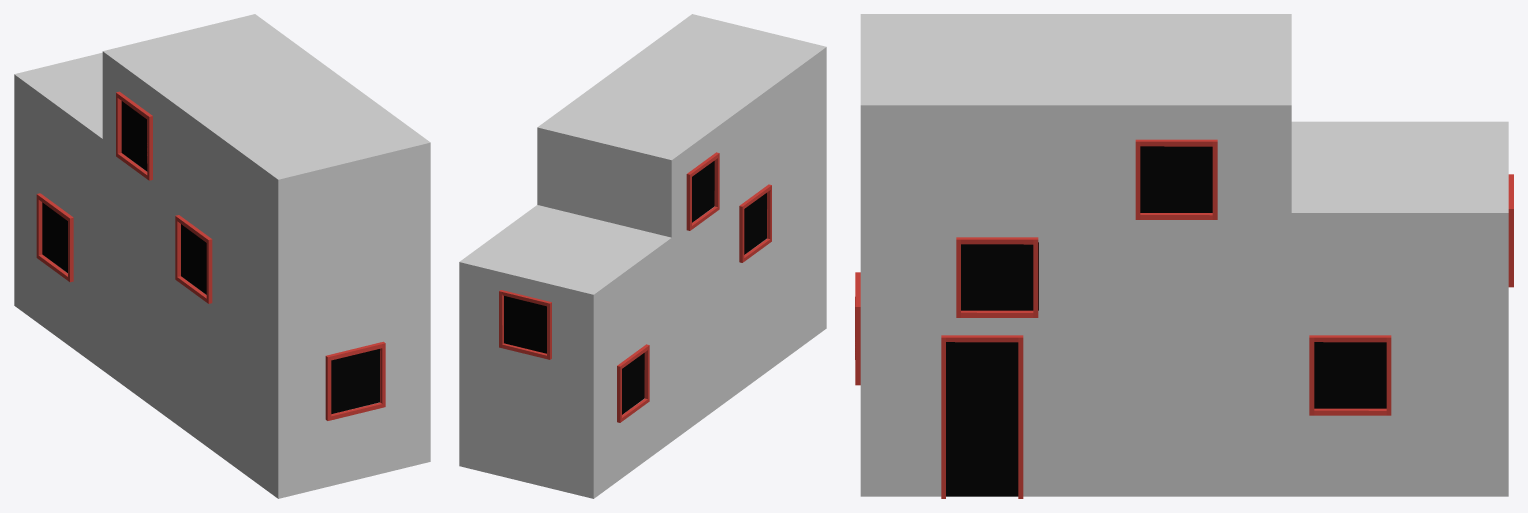
Rendered from smallapartments.glb.
The picture shows the model from 3 angles, left to right: view 1: azimuth 30°, elevation 25°; view 2: azimuth 150°, elevation 25°; view 3: azimuth 270°, elevation 25°; orthographic projection. The views are drawn at different scales.
Parts seen in each view (by area): view 1: Cube, Cube.001, Cube.006, Cube.007, Cube.009; view 2: Cube, Cube.003, Cube.009, Cube.006, Cube.007; view 3: Cube, Cube.008, Cube.002, Cube.004, Cube.005.
Part boxes in pixels (x1,y1,x2,y2): Cube: [14, 14, 430, 498]; Cube.001: [325, 341, 385, 420]; Cube.006: [175, 215, 212, 303]; Cube.007: [36, 193, 73, 282]; Cube.009: [116, 91, 152, 180]; Cube: [459, 14, 826, 498]; Cube.003: [499, 290, 551, 359]; Cube.009: [686, 152, 719, 230]; Cube.006: [739, 184, 771, 262]; Cube.007: [617, 344, 649, 422]; Cube: [860, 14, 1508, 496]; Cube.008: [941, 335, 1023, 498]; Cube.002: [1309, 335, 1391, 415]; Cube.004: [956, 237, 1038, 317]; Cube.005: [1135, 139, 1217, 219].
Size of the model in its own units: 2.1 by 4 by 6.1.
